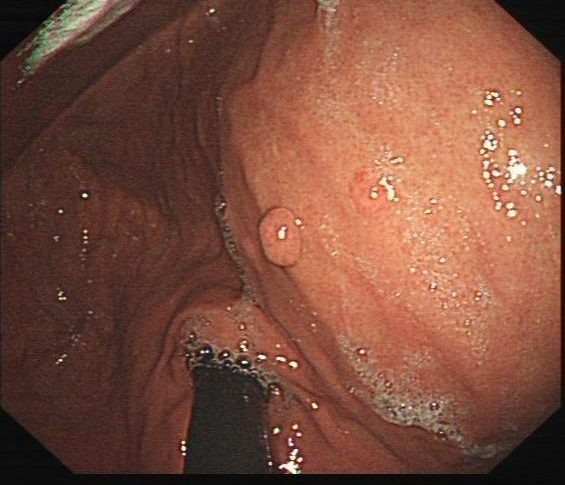Polyp: (337, 158, 397, 215), (254, 203, 308, 264)
